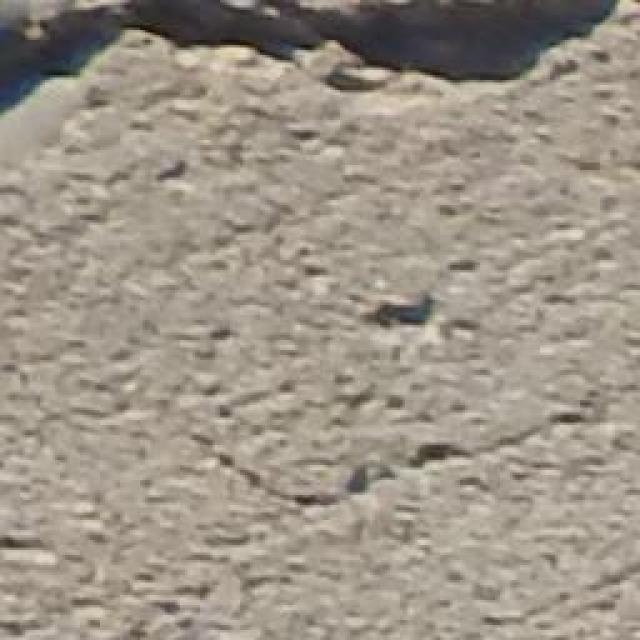concrete-crack: (0, 1, 637, 128), (197, 409, 597, 511), (368, 298, 430, 330)
